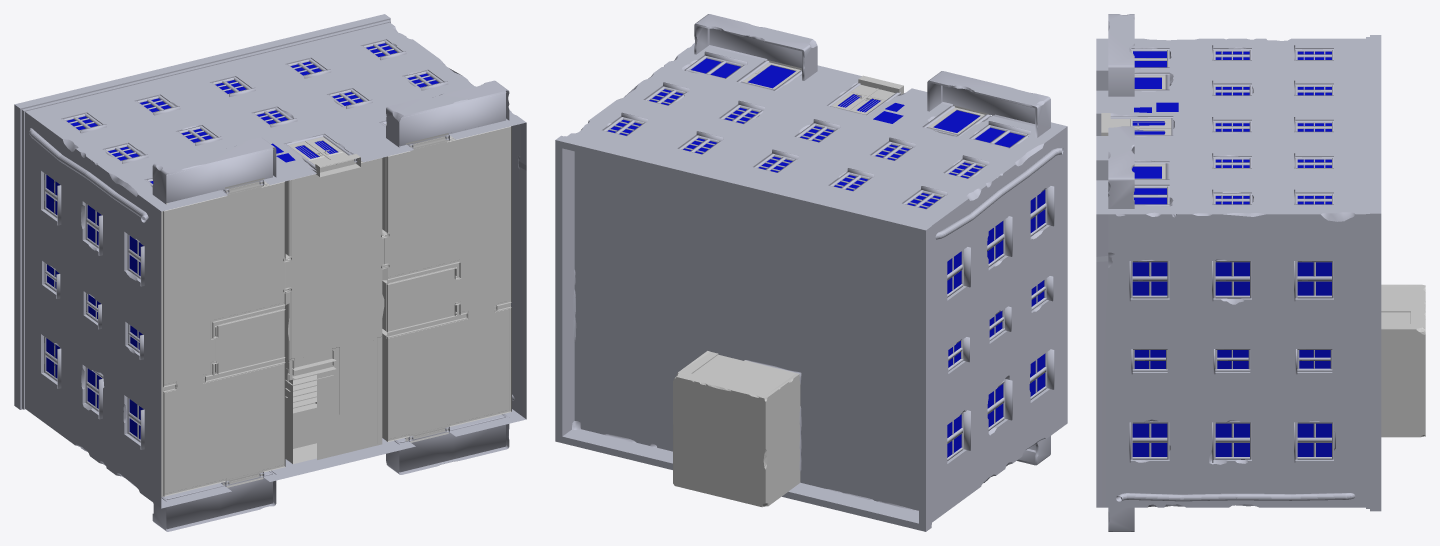
3 renders of one model, left to right at view 1: azimuth 30°, elevation 25°; view 2: azimuth 150°, elevation 25°; view 3: azimuth 270°, elevation 25°, orthographic.
Parts seen in each view (by area): view 1: outerwall, E0, Transp; view 2: outerwall, E0, Transp, doorP2, doorP1, door_roof; view 3: outerwall, Transp, E0, doorEntry_L, doorP2, doorP1.
Part boxes in pixels (bbox=[...]): outerwall: bbox=[14, 14, 526, 531]; E0: bbox=[161, 126, 511, 496]; Transp: bbox=[46, 43, 438, 439]; outerwall: bbox=[555, 14, 1067, 531]; E0: bbox=[673, 60, 989, 507]; Transp: bbox=[607, 58, 1045, 457]; doorP2: bbox=[742, 62, 800, 89]; doorP1: bbox=[928, 107, 984, 135]; door_roof: bbox=[693, 355, 743, 379]; outerwall: bbox=[1096, 14, 1381, 531]; Transp: bbox=[1132, 51, 1331, 456]; E0: bbox=[1101, 113, 1425, 437]; doorEntry_L: bbox=[1110, 119, 1171, 128]; doorP2: bbox=[1132, 164, 1165, 179]; doorP1: bbox=[1134, 75, 1165, 89].
Size of the model in its own units: 2049 by 1853 by 1561.
